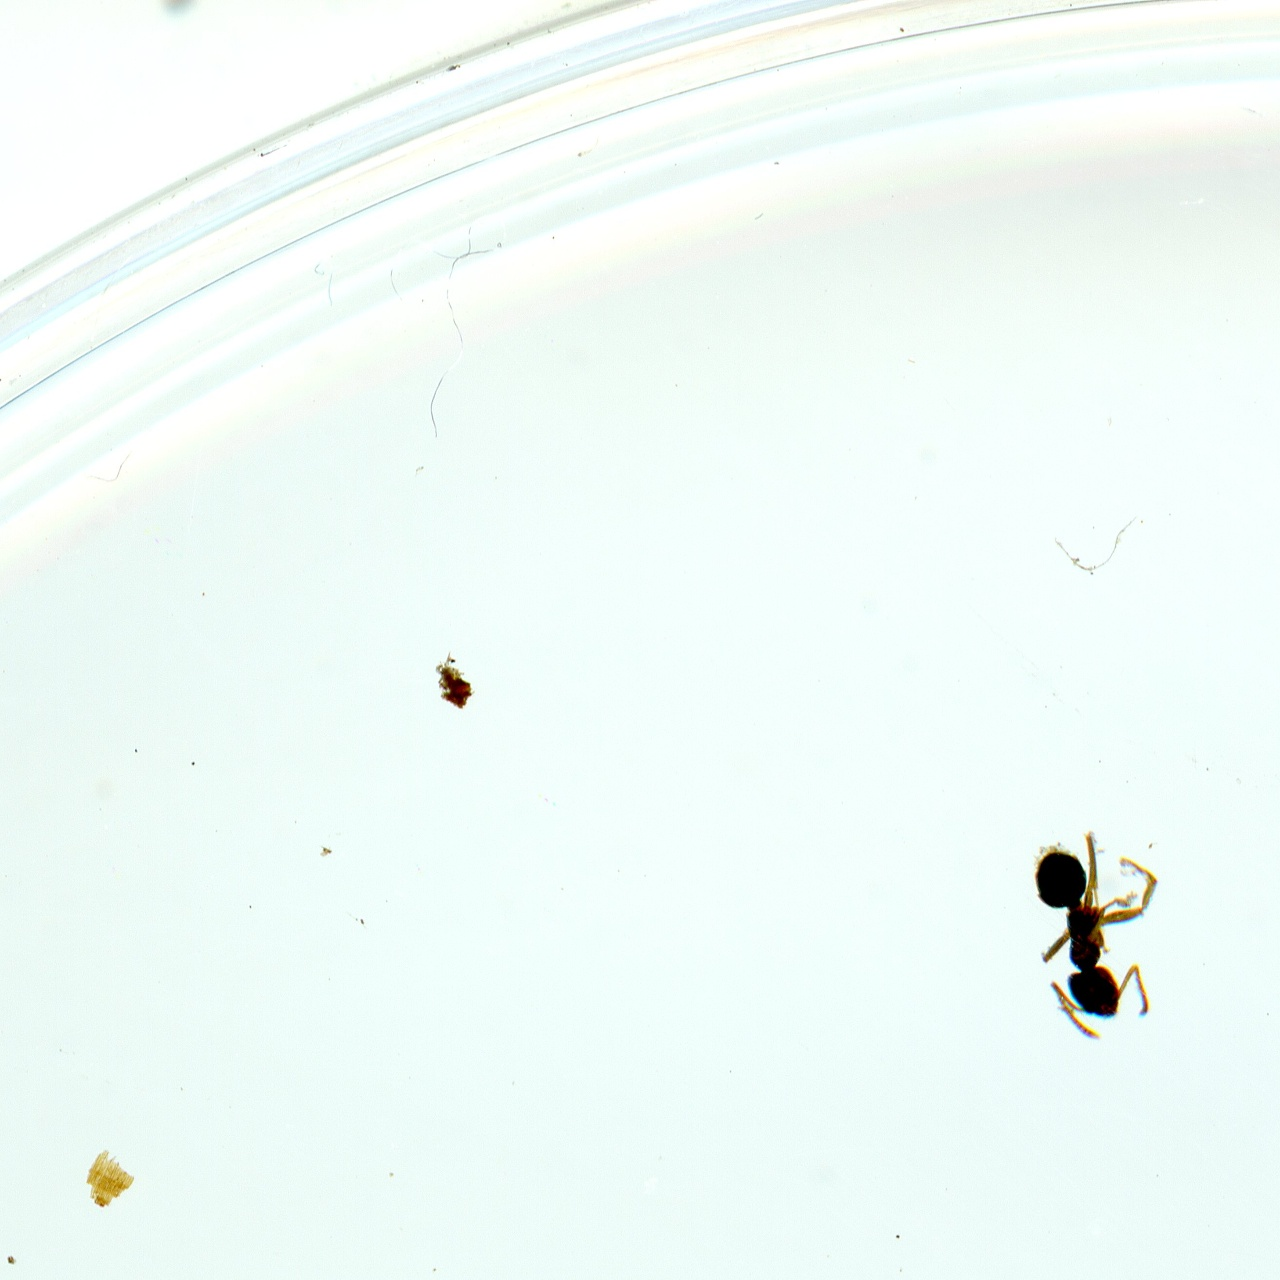arthropod: (1015, 826, 1173, 1047)
